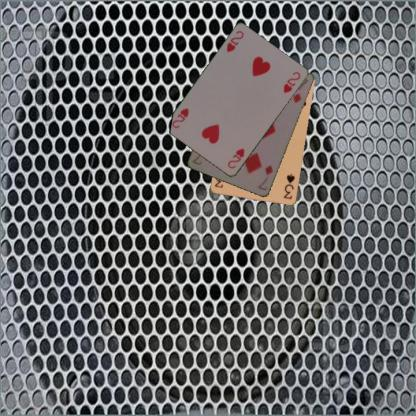2h: (224, 29, 245, 54), (226, 146, 246, 170)
3s: (282, 172, 296, 200)
7d: (256, 163, 274, 192)
